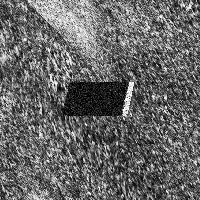mine: (62, 79, 134, 117)
